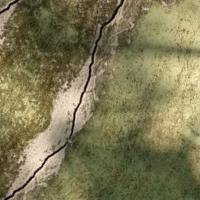crack: (4, 3, 125, 199)
